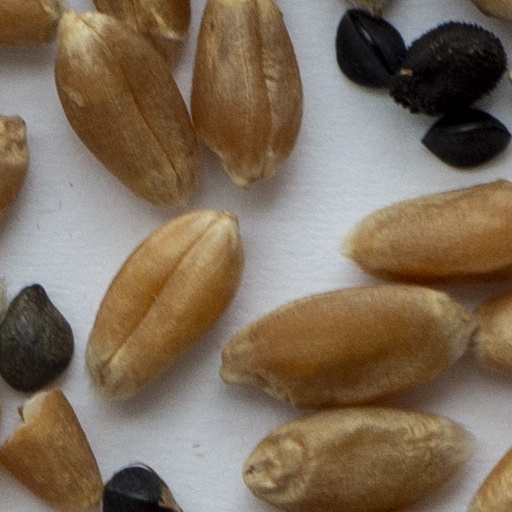Convolvulus-poly: (0, 280, 75, 392)
Fallopia-Convolvulus-poly: (101, 461, 186, 511)
Wheat-grain-damaged-poly: (0, 387, 103, 511)
